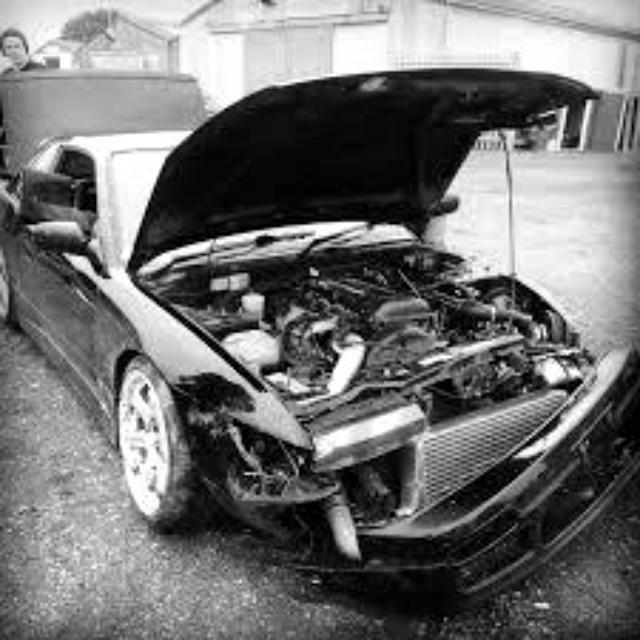fender-dent: (106, 296, 245, 432)
front-bumper-dent: (356, 433, 597, 566)
